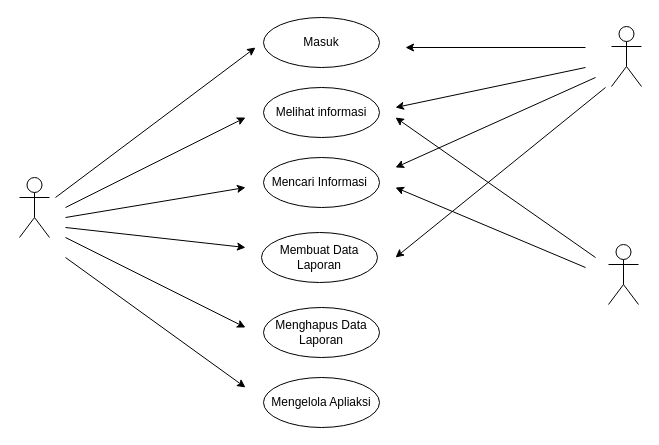
Some shapes in this 659 by 445 pixel diagram are drawn without their labels. The shapes that lost their labels are listed below. From the top down, each one's box as (x1, y1, x2, y2) in pixels, then its label:
(610, 26, 642, 86): User
(18, 176, 50, 238): Admin
(608, 244, 638, 304): Guest
